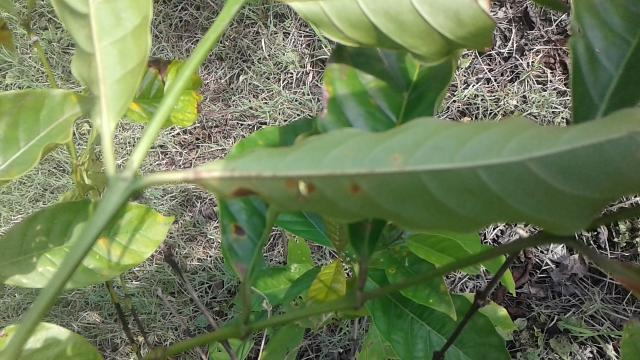rust_level_1: (191, 106, 640, 231)
